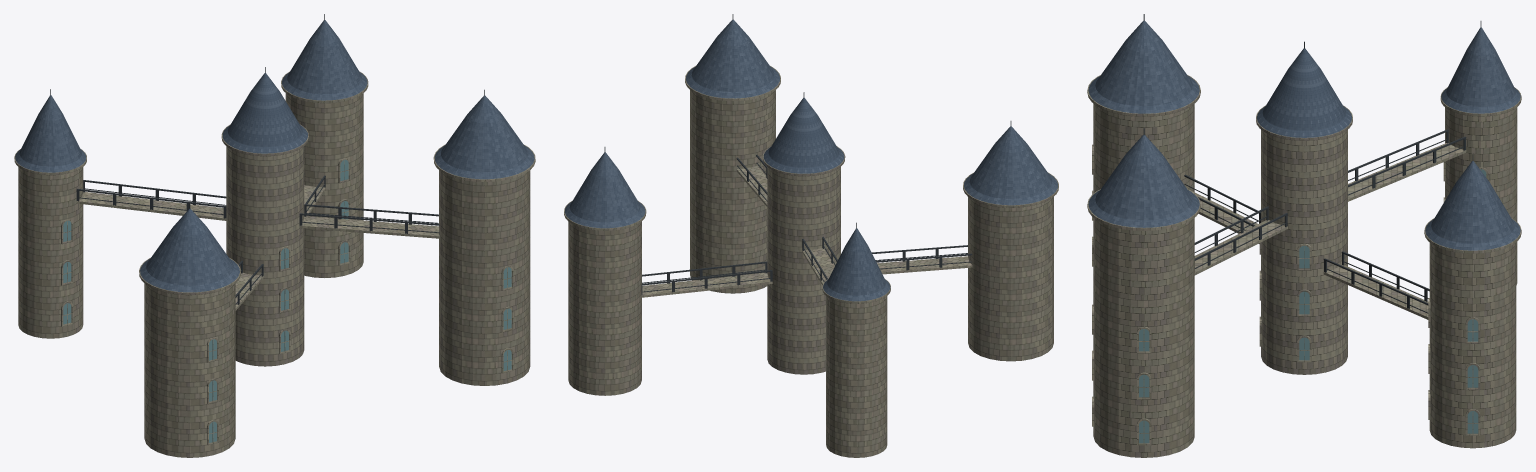
File: Furn_Dorm_Tower.fbx
3 renders of one model, left to right at view 1: azimuth 30°, elevation 25°; view 2: azimuth 150°, elevation 25°; view 3: azimuth 270°, elevation 25°, orthographic. The views are drawn at different scales.
Visible parts, largest first — view 1: Furn_Dorm_Tower_Mesh; view 2: Furn_Dorm_Tower_Mesh; view 3: Furn_Dorm_Tower_Mesh.
Boxes of the visible parts, box(x1,y1,x2,y2) form: Furn_Dorm_Tower_Mesh: box(14, 14, 535, 457); Furn_Dorm_Tower_Mesh: box(564, 14, 1058, 457); Furn_Dorm_Tower_Mesh: box(1087, 14, 1521, 457).
Size of the model in its own units: 34 by 24 by 30.
